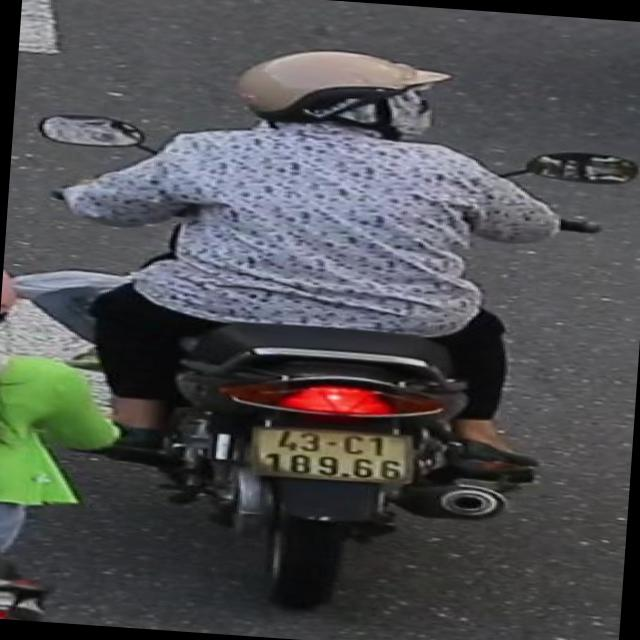LP: (248, 417, 421, 488)
helmet: (226, 37, 464, 150)
